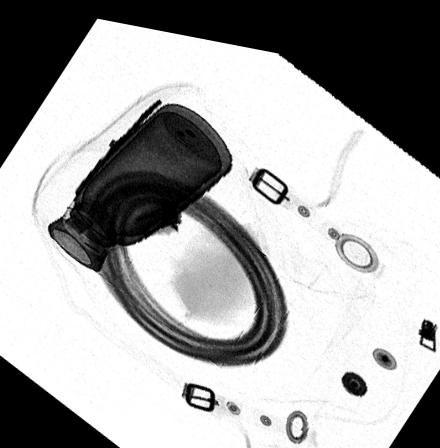Scissors: (71, 90, 163, 194)
